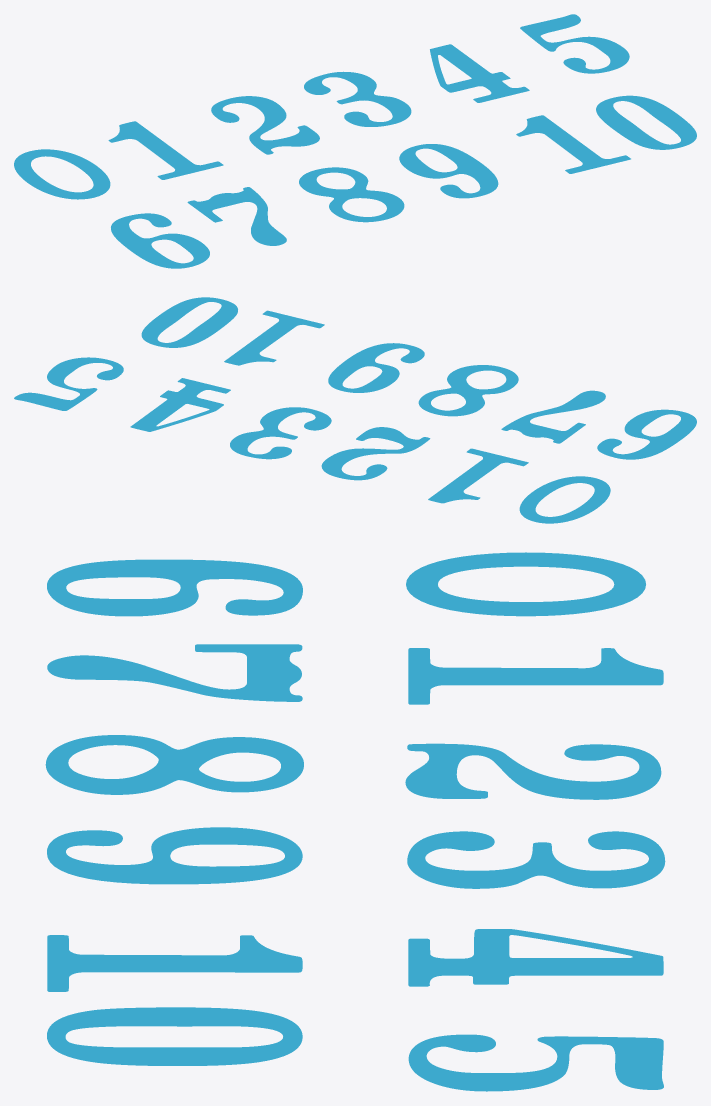
Rendered from Numbers.fbx.
3 renders of one model, top to bottom at view 1: azimuth 30°, elevation 25°; view 2: azimuth 150°, elevation 25°; view 3: azimuth 270°, elevation 25°, orthographic. The views are drawn at different scales.
Parts seen in each view (by area): view 1: Text.010, Text.006, Text.008, Text.009, Text.002, Text.003, Text.004, Text.005, Text, Text.007, Text.001; view 2: Text.010, Text.006, Text.008, Text.009, Text.002, Text.003, Text.004, Text.005, Text, Text.007, Text.001; view 3: Text.010, Text.006, Text.009, Text.008, Text.002, Text.003, Text.004, Text, Text.005, Text.007, Text.001.
Part boxes in pixels (<box>): Text.010: <box>516,95,696,173</box>; Text.006: <box>111,213,209,268</box>; Text.008: <box>299,167,404,222</box>; Text.009: <box>399,144,498,198</box>; Text.002: <box>211,96,319,154</box>; Text.003: <box>304,71,411,126</box>; Text.004: <box>430,44,529,102</box>; Text.005: <box>520,14,629,73</box>; Text: <box>14,149,110,199</box>; Text.007: <box>187,187,286,245</box>; Text.001: <box>108,121,223,179</box>; Text.010: <box>141,297,324,365</box>; Text.006: <box>597,409,696,459</box>; Text.008: <box>418,365,518,416</box>; Text.009: <box>328,343,424,392</box>; Text.002: <box>321,427,430,480</box>; Text.003: <box>230,407,331,459</box>; Text.004: <box>130,378,230,431</box>; Text.005: <box>14,357,123,410</box>; Text: <box>519,476,610,523</box>; Text.007: <box>501,390,605,443</box>; Text.001: <box>428,448,528,503</box>; Text.010: <box>47,935,302,1065</box>; Text.006: <box>47,559,302,616</box>; Text.009: <box>47,827,302,884</box>; Text.008: <box>45,735,303,794</box>; Text.002: <box>405,743,661,799</box>; Text.003: <box>407,831,665,888</box>; Text.004: <box>408,929,663,986</box>; Text: <box>406,552,645,616</box>; Text.005: <box>408,1034,663,1091</box>; Text.007: <box>47,644,302,701</box>; Text.001: <box>408,648,663,704</box>.
Size of the model in its own units: 372 by 1.23e-05 by 180.
